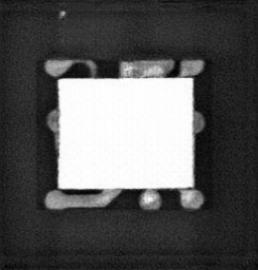DIE_INK: (57, 7, 65, 18)
